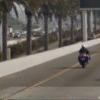Motorcycle: (73, 41, 93, 68)
